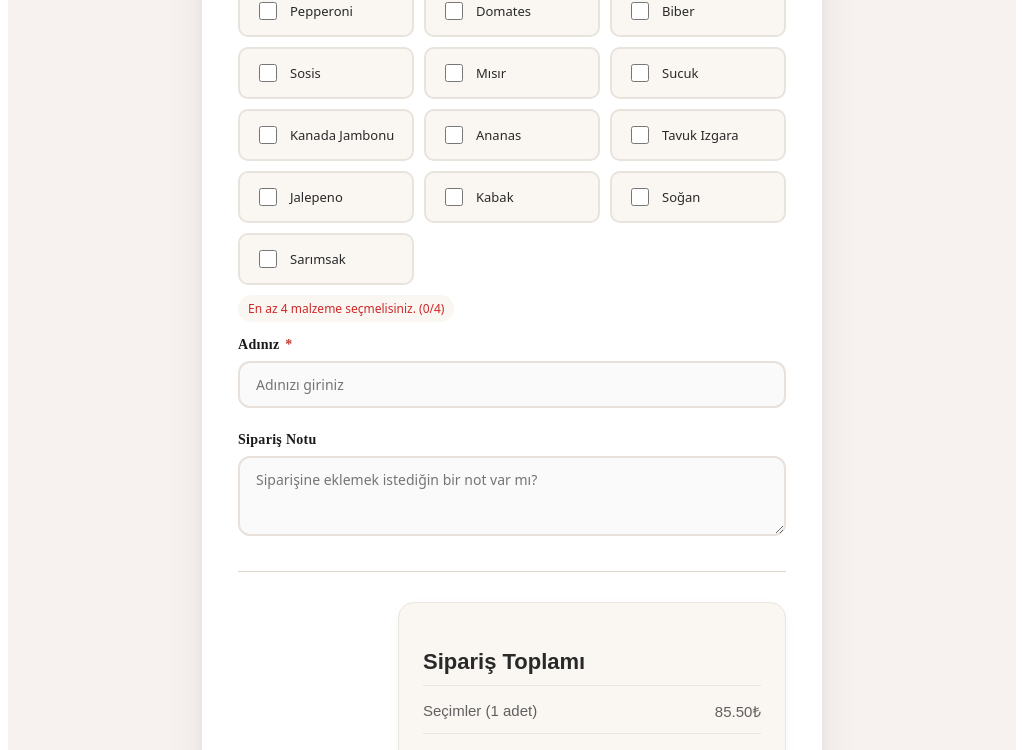
Test: Teknolojik Yemekler Testleri › İsim 3 karakterden kısaysa hata mesajı görünür
The width and height of the screenshot is (1024, 750).
(page scrolled)
Type "Al" into the field named "isim" at point(512, 385), box [238,361,786,408]
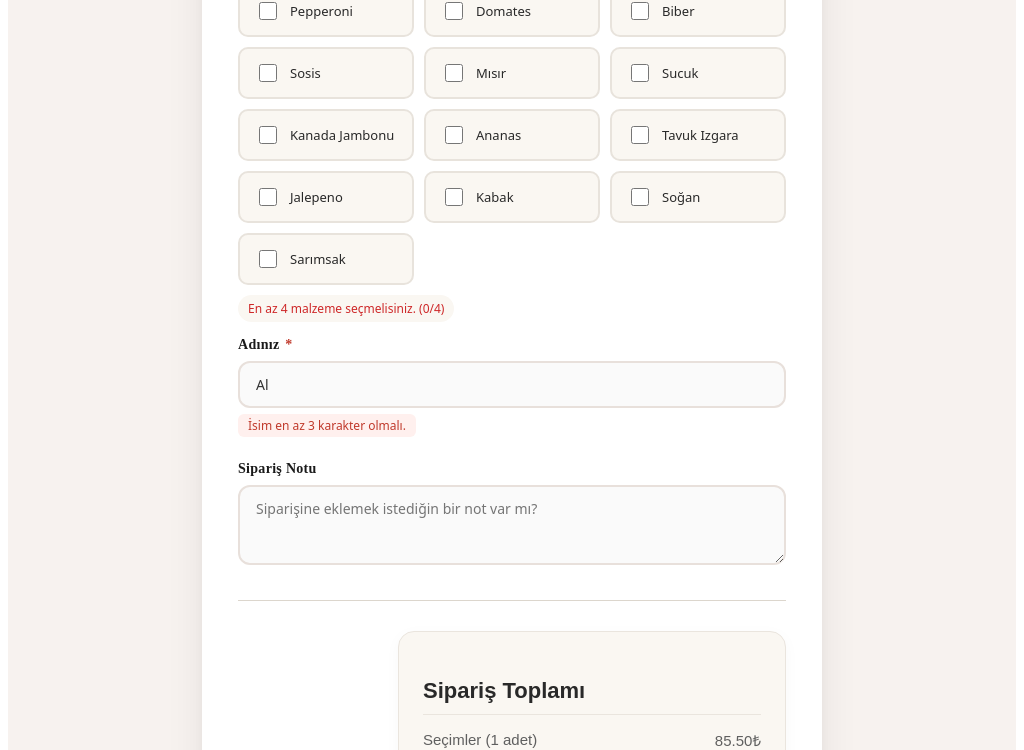
expect the text "İsim en az 3 karakter olmalı." is shown: met, box [238,414,416,436]
